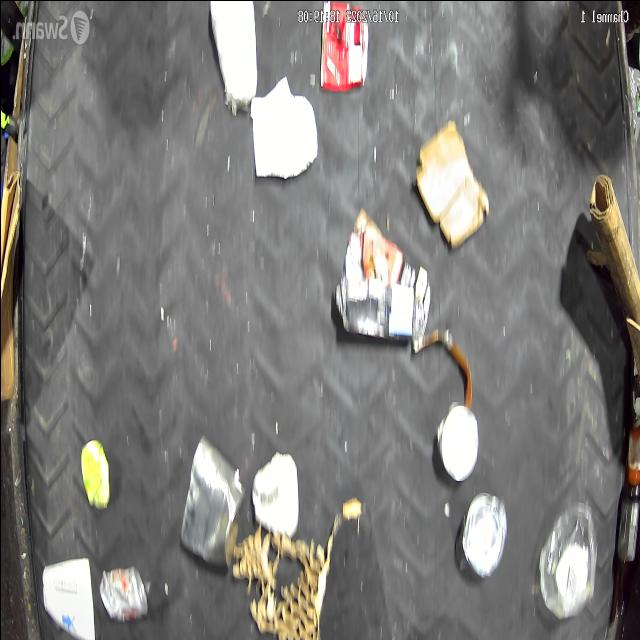can: (176, 434, 244, 570), (450, 491, 508, 579), (434, 400, 480, 482), (98, 564, 146, 620)
non_white_jug: (333, 210, 431, 347), (320, 0, 368, 92)
